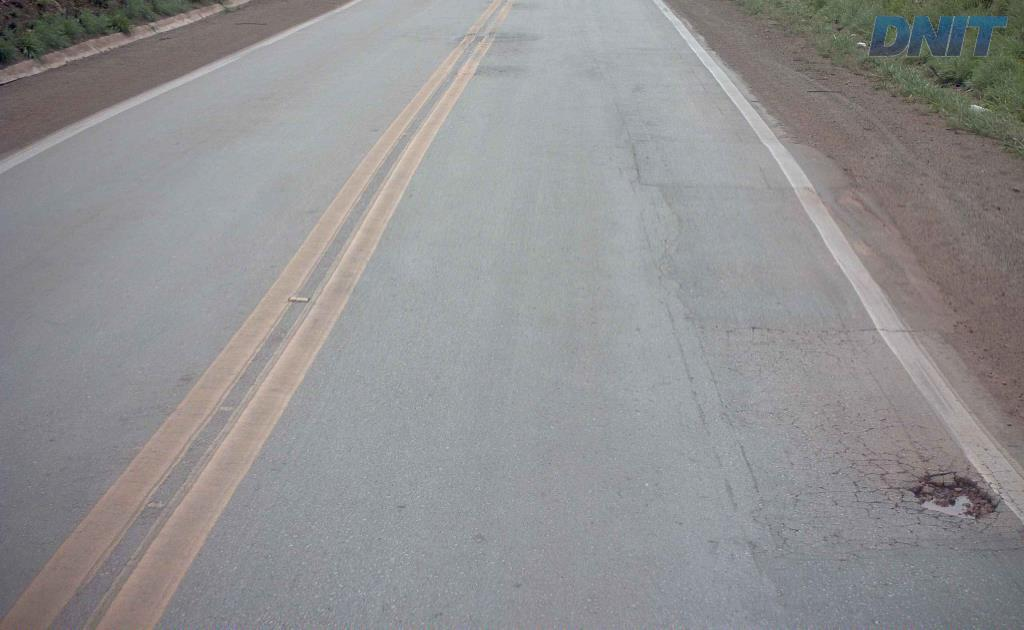crack: (858, 470, 910, 514), (896, 462, 958, 479)
pothole: (898, 472, 1000, 523)
